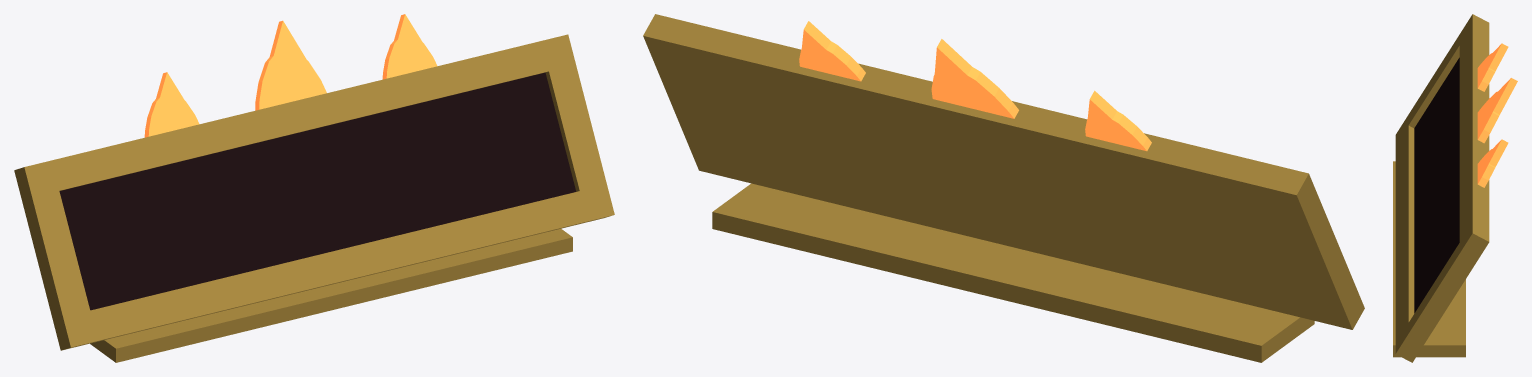
Rendered from target_plaque.glb.
3 views of the same model, side by side, from view 1: azimuth 30°, elevation 25°; view 2: azimuth 150°, elevation 25°; view 3: azimuth 270°, elevation 25° (orthographic). The views are drawn at different scales.
Parts seen in each view (by area): view 1: target_plaque; view 2: target_plaque; view 3: target_plaque.
Part boxes in pixels (x1,y1,x2,y2): target_plaque: (14, 14, 614, 362); target_plaque: (643, 14, 1364, 362); target_plaque: (1393, 14, 1517, 362).
Bounding box in the file's own units: 0.32 × 0.1303 × 0.0771.
